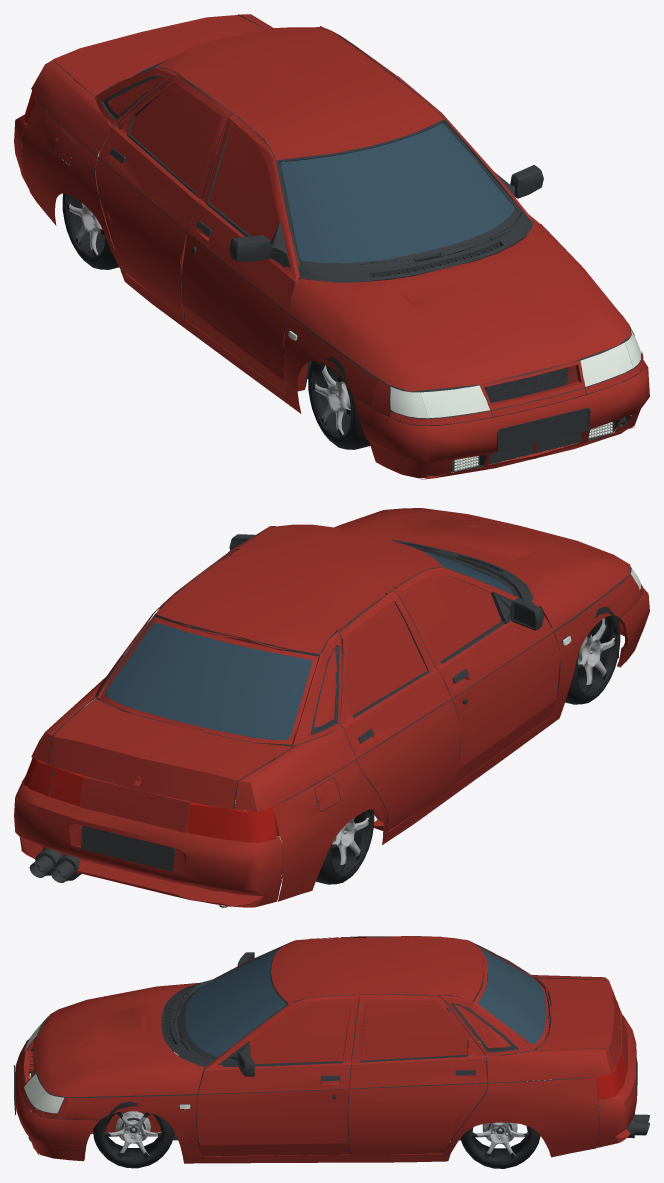
File: vaz2110.glb
The picture shows the model from 3 angles, top to bottom: view 1: azimuth 30°, elevation 25°; view 2: azimuth 150°, elevation 25°; view 3: azimuth 270°, elevation 25°; orthographic projection. The views are drawn at different scales.
Parts seen in each view (by area): view 1: paint, glass, trim, headlights, wheel_fr, wheel_rr, bulkhead; view 2: paint, glass, trim, taillights, wheel_fr, wheel_rr; view 3: paint, glass, trim, wheel_fl, wheel_rl, headlights, taillights.
Part boxes in pixels (x1=…): paint: x1=14, y1=14, x2=649, y2=479; glass: x1=133, y1=60, x2=514, y2=263; trim: x1=21, y1=14, x2=643, y2=478; headlights: x1=288, y1=329, x2=641, y2=471; wheel_fr: x1=308, y1=345, x2=372, y2=449; wheel_rr: x1=62, y1=167, x2=118, y2=269; bulkhead: x1=398, y1=367, x2=568, y2=425; paint: x1=14, y1=508, x2=649, y2=907; glass: x1=105, y1=551, x2=512, y2=739; trim: x1=29, y1=526, x2=643, y2=907; taillights: x1=24, y1=757, x2=276, y2=842; wheel_fr: x1=558, y1=601, x2=620, y2=704; wheel_rr: x1=307, y1=779, x2=374, y2=884; paint: x1=15, y1=936, x2=636, y2=1163; glass: x1=185, y1=947, x2=546, y2=1056; trim: x1=14, y1=936, x2=649, y2=1156; wheel_fl: x1=93, y1=1096, x2=174, y2=1168; wheel_rl: x1=460, y1=1095, x2=540, y2=1168; headlights: x1=24, y1=1020, x2=190, y2=1113; taillights: x1=595, y1=1009, x2=627, y2=1098.
Bounding box in the file's own units: 2.19 × 1.45 × 5.22.
